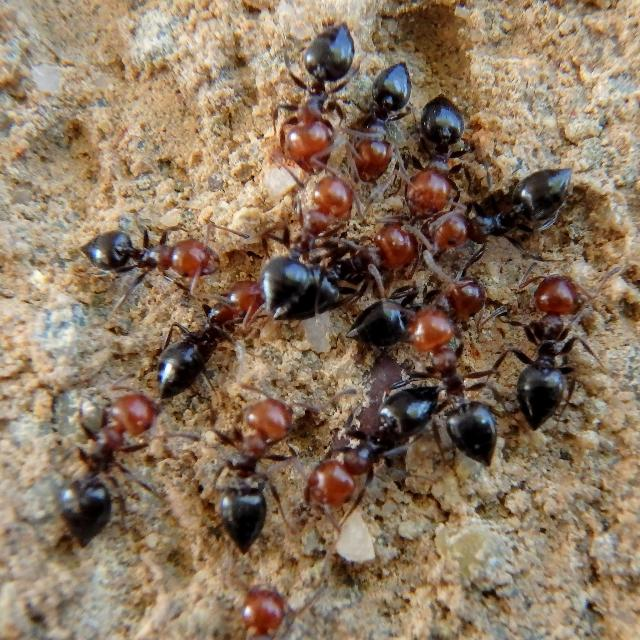Crematogaster: (403, 291, 503, 479), (44, 392, 160, 554), (138, 268, 272, 406), (324, 364, 450, 502), (201, 400, 305, 554), (260, 215, 424, 312), (502, 262, 598, 426), (423, 157, 579, 249), (242, 172, 338, 310), (338, 272, 496, 346), (274, 29, 358, 162), (389, 84, 471, 220), (80, 229, 238, 275), (360, 46, 406, 194), (227, 582, 281, 640)
